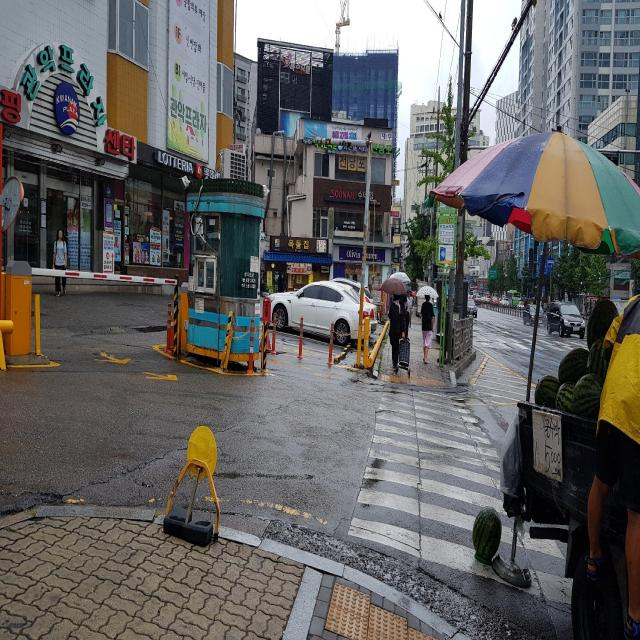횡단보도: (347, 386, 574, 606)
